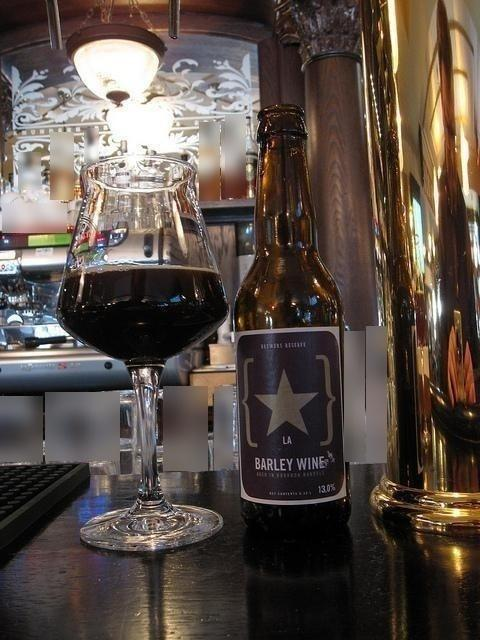bottle-glass: (242, 104, 351, 523)
glass-wine: (57, 152, 230, 551)
